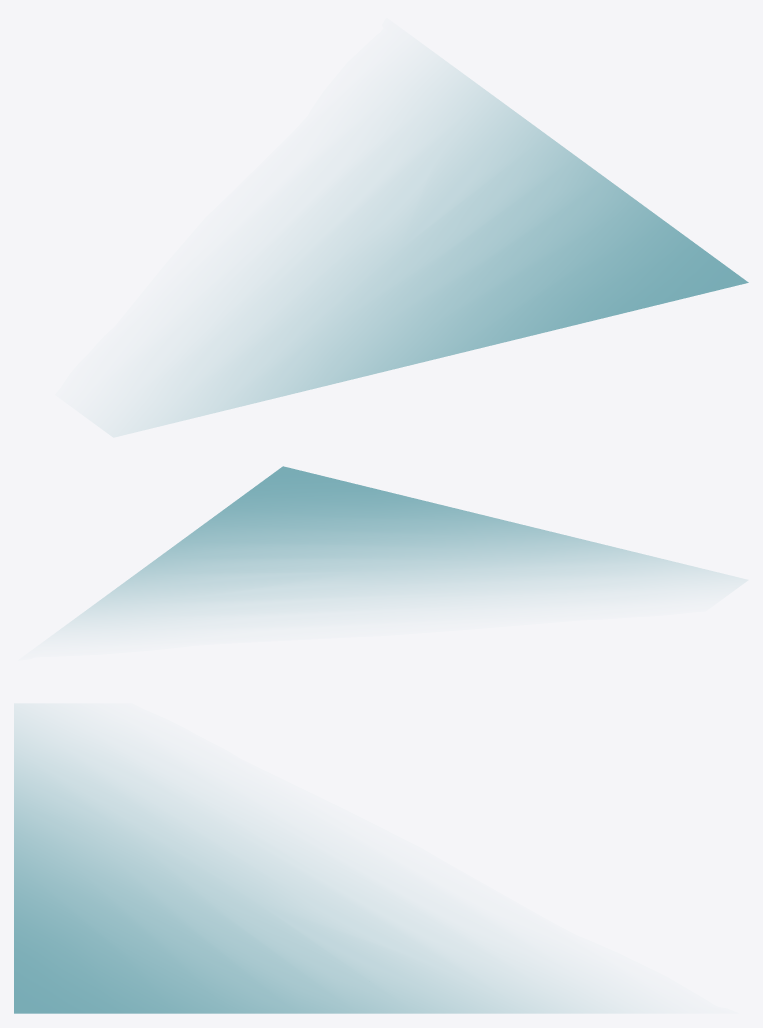
The picture shows the model from 3 angles, top to bottom: view 1: azimuth 30°, elevation 25°; view 2: azimuth 150°, elevation 25°; view 3: azimuth 270°, elevation 25°; orthographic projection. The views are drawn at different scales.
Parts seen in each view (by area): view 1: city; view 2: city; view 3: city.
Boxes of the visible parts, box(x1,y1,x2,y2) form: city: box(113, 60, 748, 436); city: box(61, 466, 746, 629); city: box(14, 704, 621, 1013).
Bounding box in the file's own units: 500 × 0 × 500.
